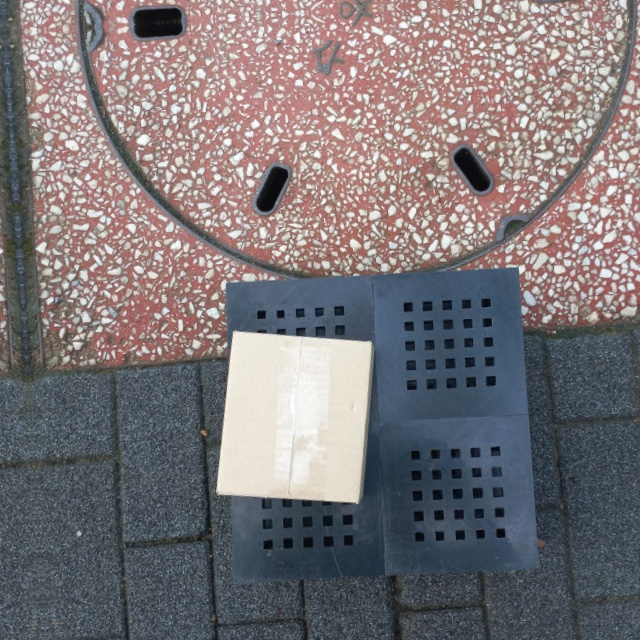box: (213, 325, 375, 509)
pallet: (210, 261, 546, 589)
